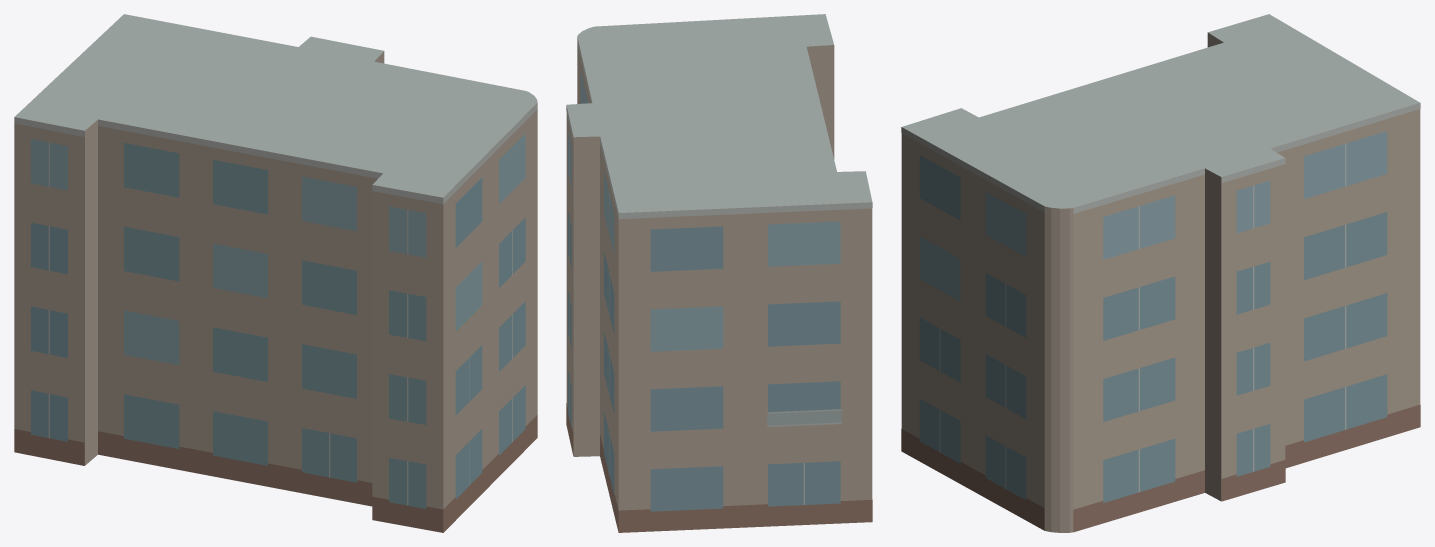
The model's file is survey-upis-32984506.glb.
3 renders of one model, left to right at view 1: azimuth 30°, elevation 25°; view 2: azimuth 150°, elevation 25°; view 3: azimuth 270°, elevation 25°, orthographic. The views are drawn at different scales.
Parts seen in each view (by area): view 1: survey-upis-32984506.tmp; view 2: survey-upis-32984506.tmp; view 3: survey-upis-32984506.tmp.
Part boxes in pixels (left/top/right/bottom): survey-upis-32984506.tmp: left=14, top=14, right=537, bottom=532; survey-upis-32984506.tmp: left=566, top=14, right=872, bottom=532; survey-upis-32984506.tmp: left=901, top=14, right=1420, bottom=532.
Bounding box in the file's own units: 16.59 × 12.9 × 18.71.
